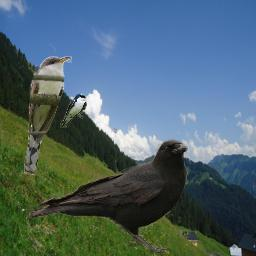Crow: (28, 139, 188, 254)
Cuckoo: (24, 56, 72, 175)
Swallow: (60, 93, 87, 128)
